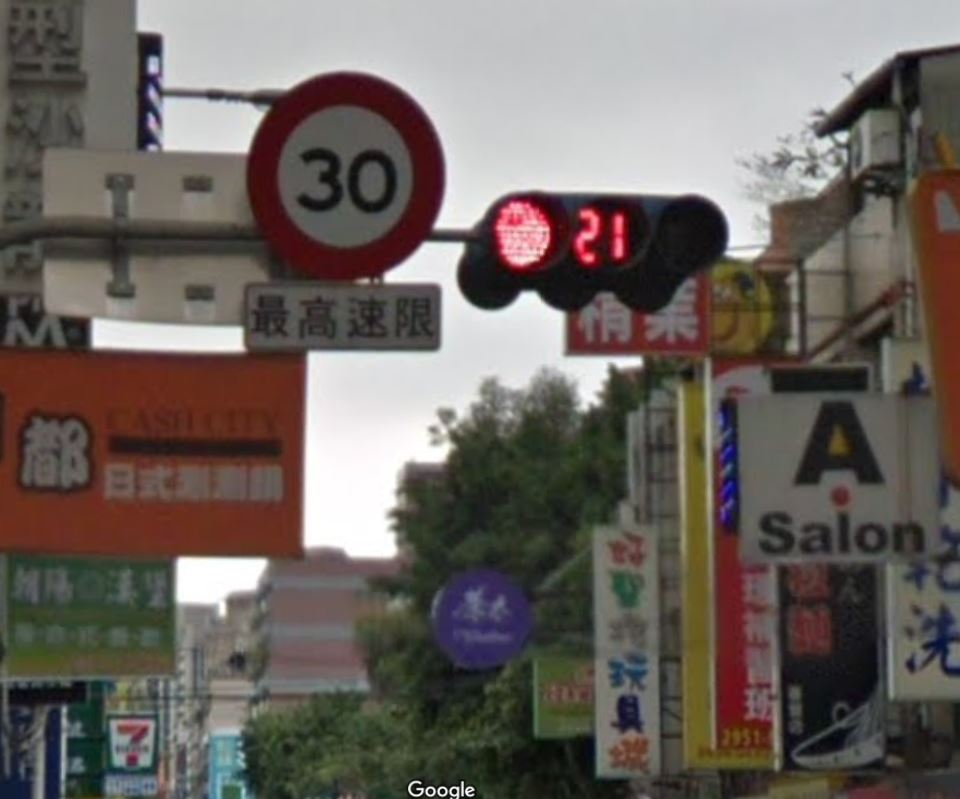Speed_limit_30km: (245, 68, 448, 279)
Traffic_light_red: (476, 190, 729, 275)
